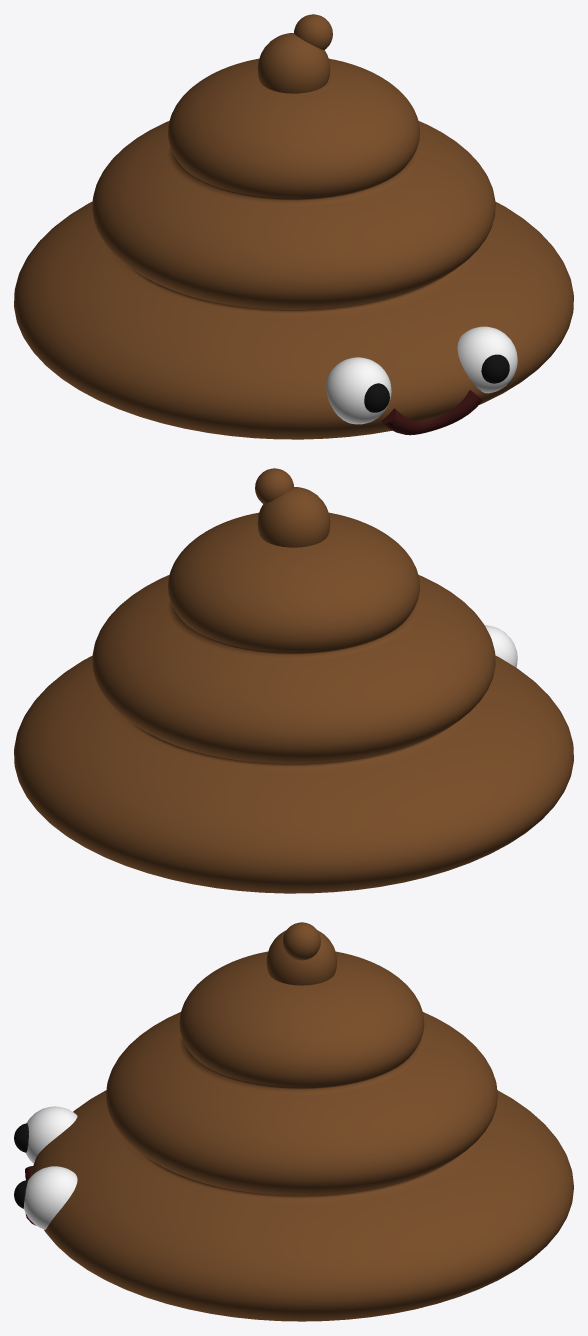
File: CacaGigante.fbx
3 renders of one model, top to bottom at view 1: azimuth 30°, elevation 25°; view 2: azimuth 150°, elevation 25°; view 3: azimuth 270°, elevation 25°, orthographic. The views are drawn at different scales.
Parts seen in each view (by area): view 1: Cuerpo, Punta, OjoIzq, OjoDer, Boca, Rizo, PupilaDer, PupilaIzq; view 2: Cuerpo, Punta, Rizo, OjoIzq; view 3: Cuerpo, Punta, OjoDer, OjoIzq, Rizo.
Boxes of the visible parts, box(x1,y1,x2,y2) form: Cuerpo: box(14, 58, 573, 439); Punta: box(257, 33, 330, 93); OjoIzq: box(326, 357, 391, 424); OjoDer: box(457, 326, 517, 393); Boca: box(381, 390, 482, 435); Rizo: box(294, 14, 332, 49); PupilaDer: box(481, 354, 509, 383); PupilaIzq: box(364, 383, 389, 412); Cuerpo: box(14, 512, 573, 893); Punta: box(257, 487, 330, 547); Rizo: box(255, 468, 293, 503); OjoIzq: box(485, 625, 517, 667); Cuerpo: box(31, 951, 573, 1321); Punta: box(266, 930, 337, 985); OjoDer: box(23, 1166, 77, 1229); OjoIzq: box(25, 1106, 77, 1163); Rizo: box(283, 922, 320, 960).
Bounding box in the file's own units: 20 × 12.8 × 20.58.
